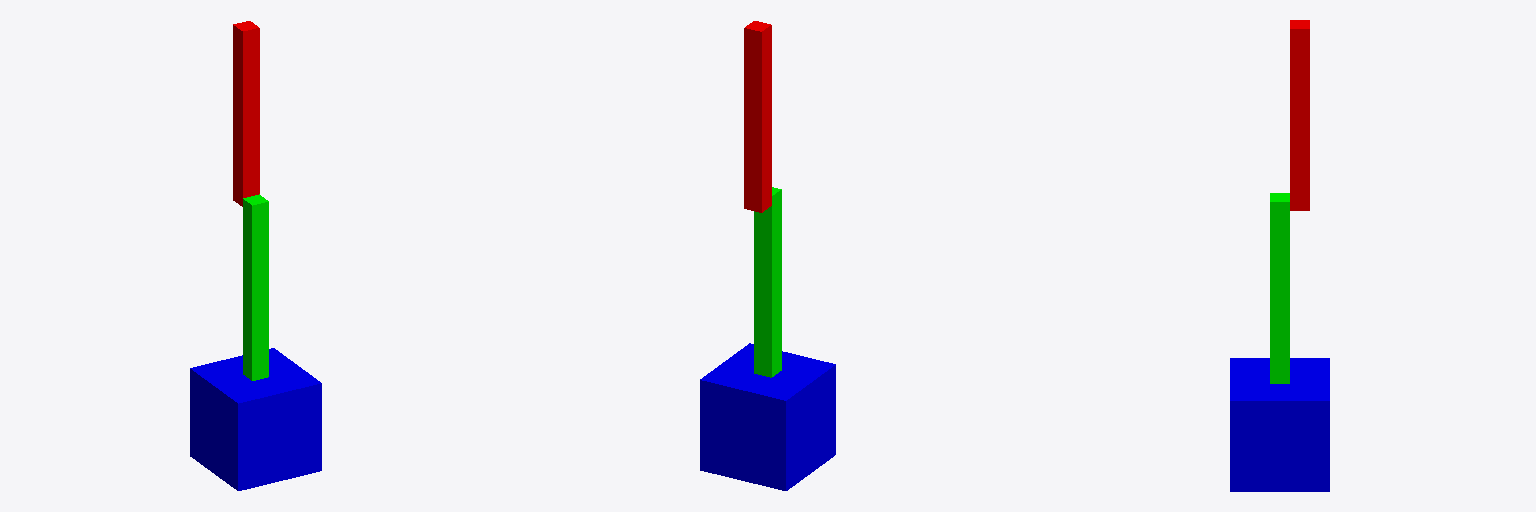
The robot description file, URDF, robot "sja":
<?xml version="1.0"?>
<robot name="sja">

  <link name="base_link">
    <inertial>
      <mass value="100.0"/>
      <origin xyz="0 0 0" rpy="0 0 0"/>
      <inertia ixx="0.1" ixy="0.0" ixz="0.0" iyy="0.1" iyz="0.0" izz="0.1"/>
    </inertial>
    <visual>
      <geometry>
        <box size="0.5 0.5 0.5"/>
      </geometry>
      <origin xyz="0 0 0" rpy="0 0 0"/>
      <material name="blue">
        <color rgba="0 0 1 1"/>
      </material>
    </visual>
    <collision>
      <geometry>
        <box size="0.5 0.5 0.5"/>
      </geometry>
      <origin xyz="0 0 0" rpy="0 0 0"/>
    </collision>
  </link>

  <link name="link1">
    <inertial>
      <mass value="0.5"/>
      <origin xyz="0 0 0.5" rpy="0 0 0"/>
      <inertia ixx="0.01" ixy="0.0" ixz="0.0" iyy="0.1" iyz="0.0" izz="0.1"/>
    </inertial>
    <visual>
      <geometry>
        <box size="0.1 0.1 1"/>
      </geometry>
      <origin xyz="0 0 0.5" rpy="0 0 0"/>
      <material name="green">
        <color rgba="0 1 0 1"/>
      </material>
    </visual>
    <collision>
      <geometry>
        <box size="0.1 0.1 1"/>
      </geometry>
      <origin xyz="0 0 0.5" rpy="0 0 0"/>
    </collision>
  </link>

  <link name="link2">
    <inertial>
      <mass value="0.5"/>
      <origin xyz="0 0 0.5" rpy="0 0 0"/>
      <inertia ixx="0.01" ixy="0.0" ixz="0.0" iyy="0.1" iyz="0.0" izz="0.1"/>
    </inertial>
    <visual>
      <geometry>
        <box size="0.1 0.1 1"/>
      </geometry>
      <origin xyz="0 0 0.5" rpy="0 0 0"/>
      <material name="red">
        <color rgba="1 0 0 1"/>
      </material>
    </visual>
    <collision>
      <geometry>
        <box size="0.1 0.1 1"/>
      </geometry>
      <origin xyz="0 0 0.5" rpy="0 0 0"/>
    </collision>
  </link>

  <joint name="joint1" type="revolute">
    <parent link="base_link"/>
    <child link="link1"/>
    <origin xyz="0 0 0.25" rpy="0 0 0"/>
    <axis xyz="0 0 1"/>
    <limit lower="-1.57" upper="1.57" effort="100" velocity="1.0"/>
  </joint>

  <joint name="joint2" type="revolute">
    <parent link="link1"/>
    <child link="link2"/>
    <origin xyz="0 0.1 0.95" rpy="0 0 0"/>
    <axis xyz="0 1 0"/>
    <limit lower="-1.57" upper="1.57" effort="100" velocity="1.0"/>
  </joint>

  <ros2_control name="MyRobotHardware" type="system">
    <hardware>
      <plugin>gazebo_ros2_control/GazeboSystem</plugin>
    </hardware>
    <joint name="joint1">
      <command_interface name="position"/>
      <state_interface name="position"/>
      <state_interface name="velocity"/>
    </joint>
    <joint name="joint2">
      <command_interface name="position"/>
      <state_interface name="position"/>
      <state_interface name="velocity"/>
    </joint>
  </ros2_control>

  <gazebo>
    <plugin name="gazebo_ros2_control" filename="libgazebo_ros2_control.so">
      <robotNamespace>/</robotNamespace>
      <robotSimType>gazebo_ros2_control/DefaultRobotHWSim</robotSimType>
    </plugin>
  </gazebo>
  
</robot>

--- Render facts (derived) ---
3 views of the same robot in one strip: view 1: azimuth 30°, elevation 25°; view 2: azimuth 150°, elevation 25°; view 3: azimuth 270°, elevation 25° (orthographic).
Robot: sja — 3 links, 2 joints (2 revolute); root link base_link; default pose: every joint at zero.
Links seen in each view (by area): view 1: base_link, link2, link1; view 2: base_link, link2, link1; view 3: base_link, link1, link2.
Boxes of the visible links, bbox=[...] form: base_link: bbox=[190, 348, 321, 490]; link2: bbox=[233, 21, 259, 206]; link1: bbox=[243, 194, 268, 380]; base_link: bbox=[700, 343, 835, 490]; link2: bbox=[744, 21, 771, 212]; link1: bbox=[754, 187, 781, 377]; base_link: bbox=[1230, 358, 1329, 491]; link1: bbox=[1270, 193, 1289, 383]; link2: bbox=[1290, 20, 1309, 210].
Bounding box of the posed robot: 0.5 × 0.5 × 2.45 m (x, y, z).
Geometry: primitives only (box / cylinder / sphere), no mesh files.
